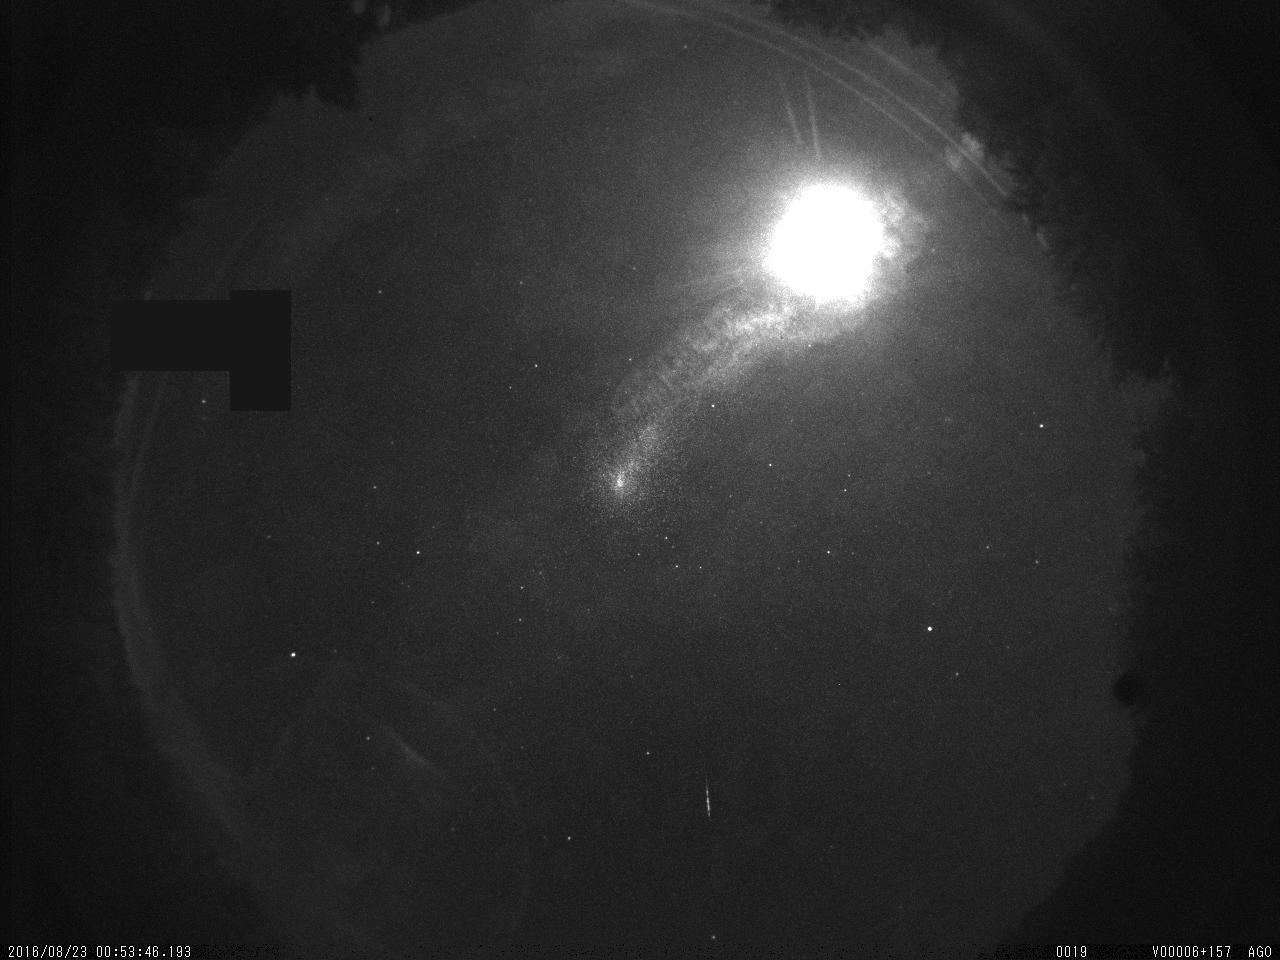meteor: (693, 770, 720, 827)
